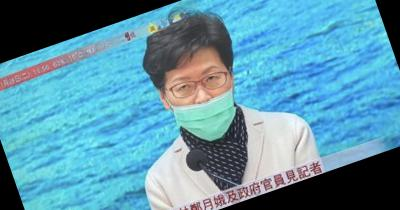mask_weared_incorrect: (161, 58, 250, 151)
